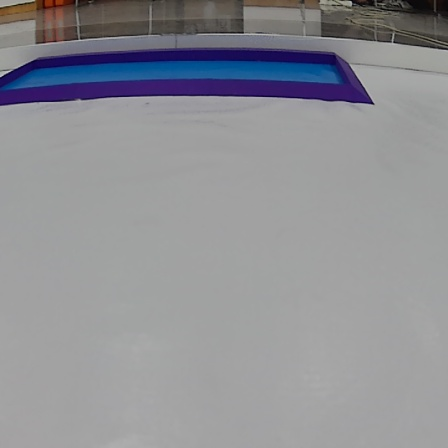blue_aim: (0, 46, 375, 105)
